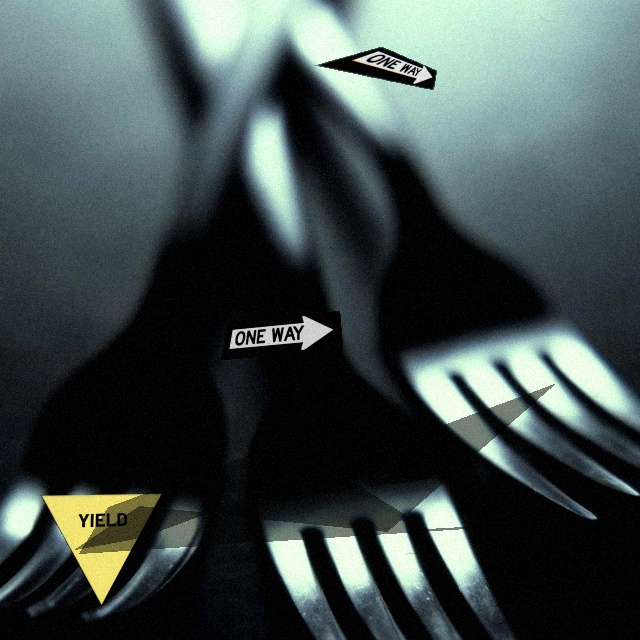ONE_WAY_ right: (220, 310, 343, 360), (314, 46, 437, 90)
YIELD: (40, 493, 163, 607)
